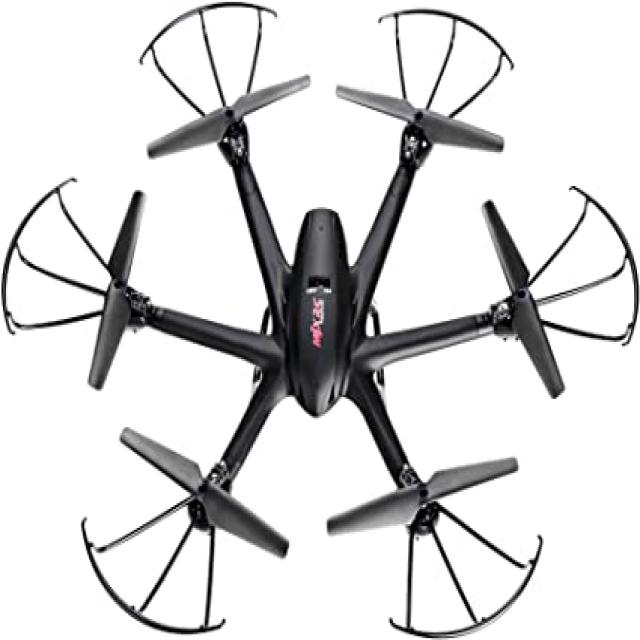drone: (0, 2, 640, 634)
